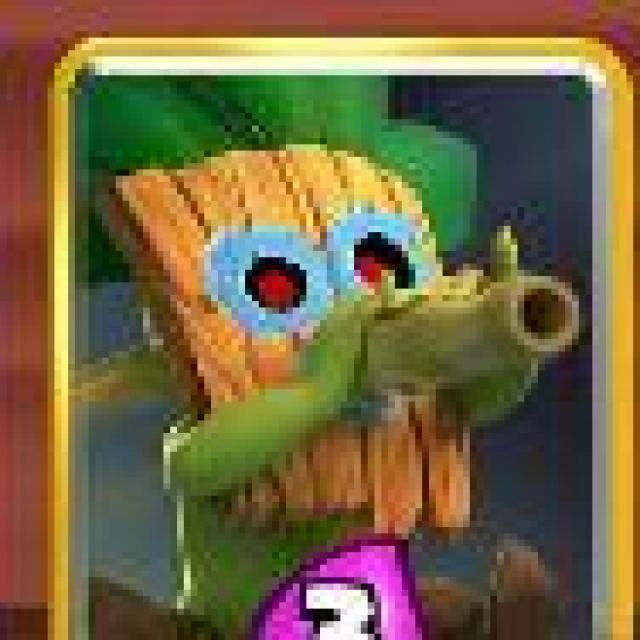Dart_Goblin: (42, 30, 636, 640)
